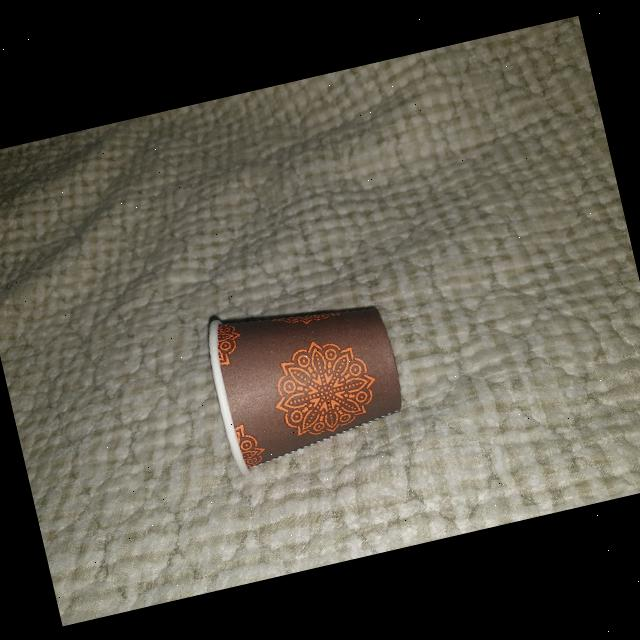trash: (185, 271, 424, 491)
